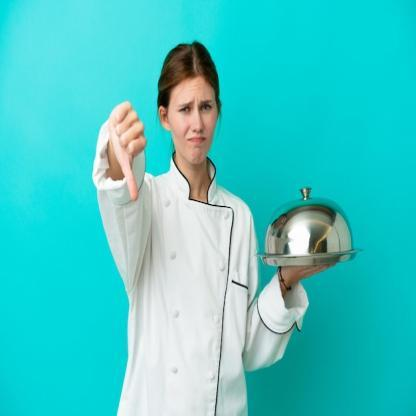thumb_down: (104, 96, 148, 204)
